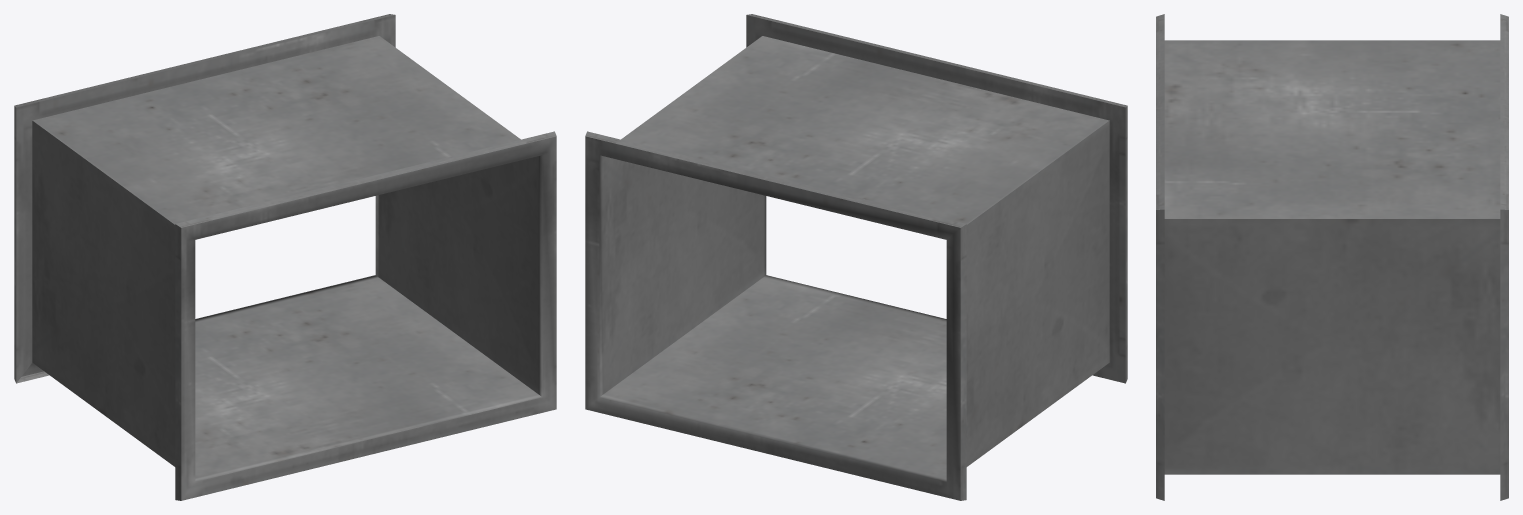
File: Airduct_short_open.fbx
The picture shows the model from 3 angles, left to right: view 1: azimuth 30°, elevation 25°; view 2: azimuth 150°, elevation 25°; view 3: azimuth 270°, elevation 25°; orthographic projection. The views are drawn at different scales.
Visible parts, largest first — view 1: NewAirduct_Straight_001; view 2: NewAirduct_Straight_001; view 3: NewAirduct_Straight_001.
Part boxes in pixels (x1,y1,x2,y2): NewAirduct_Straight_001: (14,14,556,500); NewAirduct_Straight_001: (585,14,1127,500); NewAirduct_Straight_001: (1156,14,1508,500).
Bounding box in the file's own units: 65.61 × 45.61 × 50.02.
